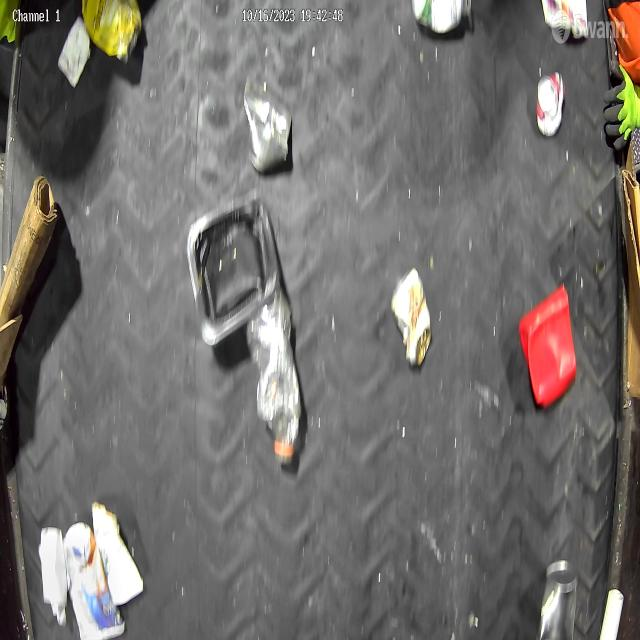can: (243, 77, 292, 170), (392, 269, 432, 369), (538, 557, 578, 640), (536, 69, 567, 137)
plastic_bottle: (246, 295, 303, 467)
